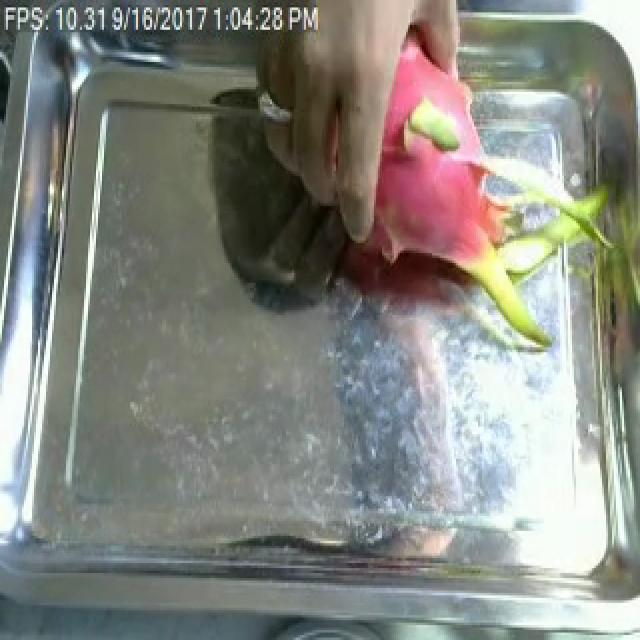fruit: (342, 5, 636, 370)
